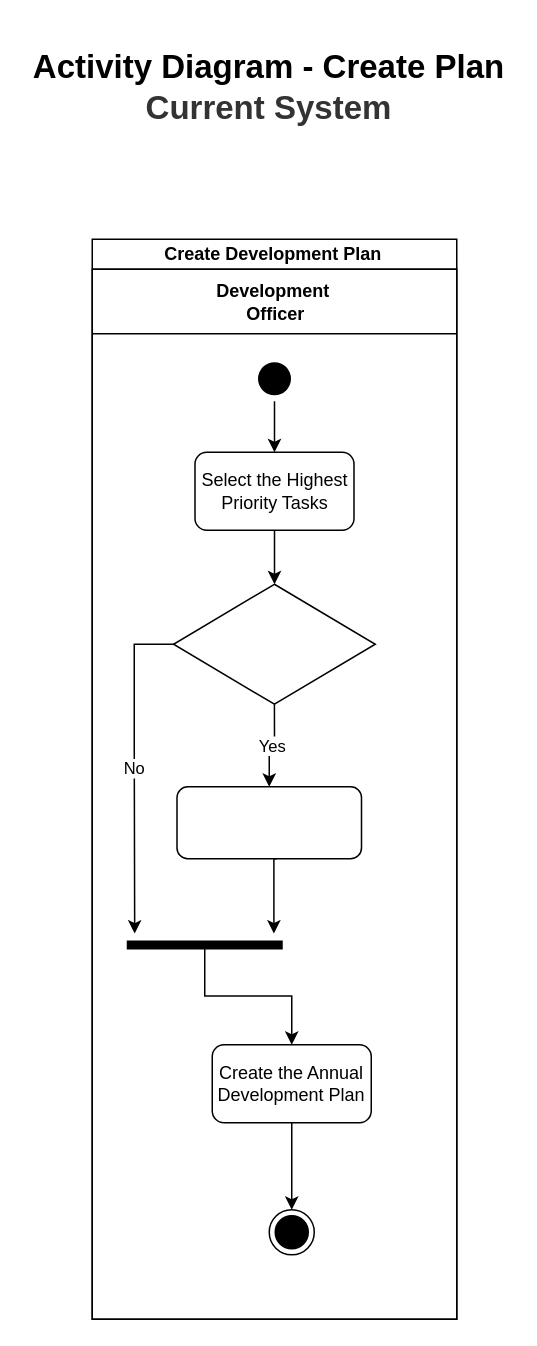
Image size: 537x1346. Some labels were removed from this diagram. The centre of each missing label's shape, as x and y in pixels:
"Continuation Activities Available ?" belongs at [273,643].
"Select Continuation Activities" belongs at [269,822].
